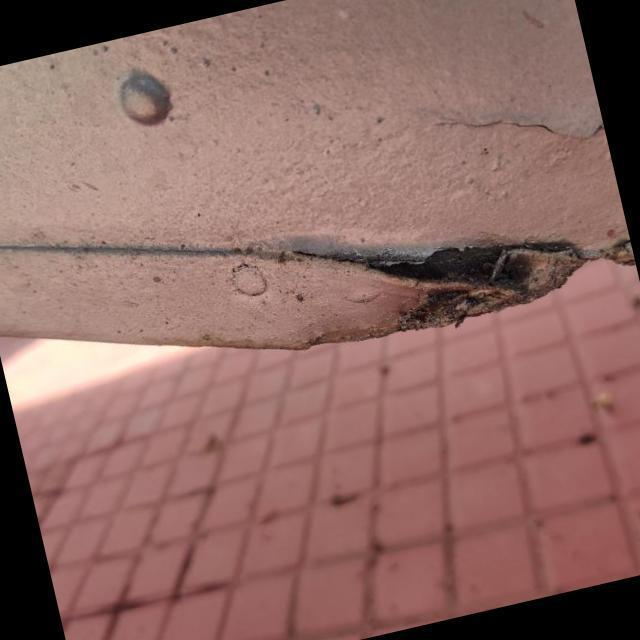Rupture: (346, 190, 556, 348)
